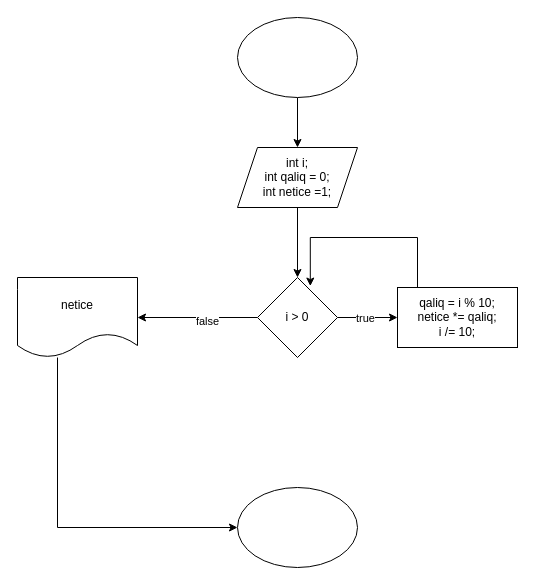
Some shapes in this 535 by 585 pixel diagram are drawn without their labels. The shapes that lost their labels are listed below. From the top down, each one's centre as x and y in pixels, then its label:
point (297, 57): Start
point (297, 527): end
